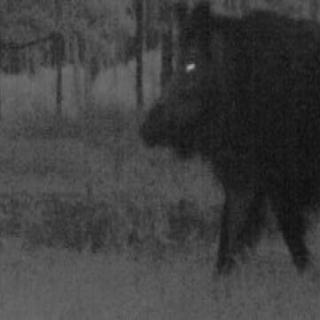Pig: (141, 0, 320, 269)
